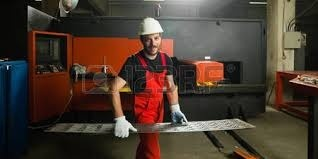helmet: (135, 15, 165, 39)
person with partial safety: (111, 16, 184, 158)
